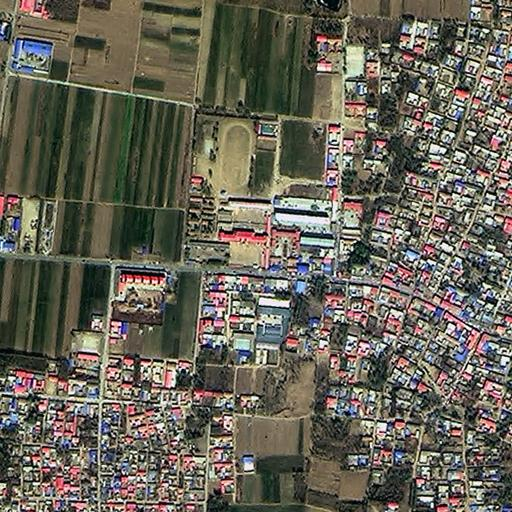school: (184, 115, 281, 270)
